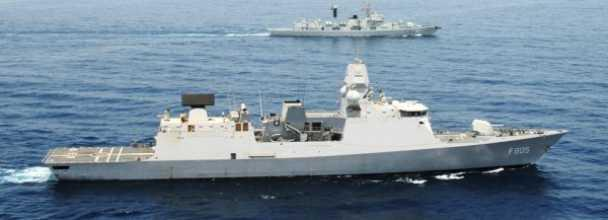warship: (35, 66, 562, 185), (265, 10, 442, 43)
